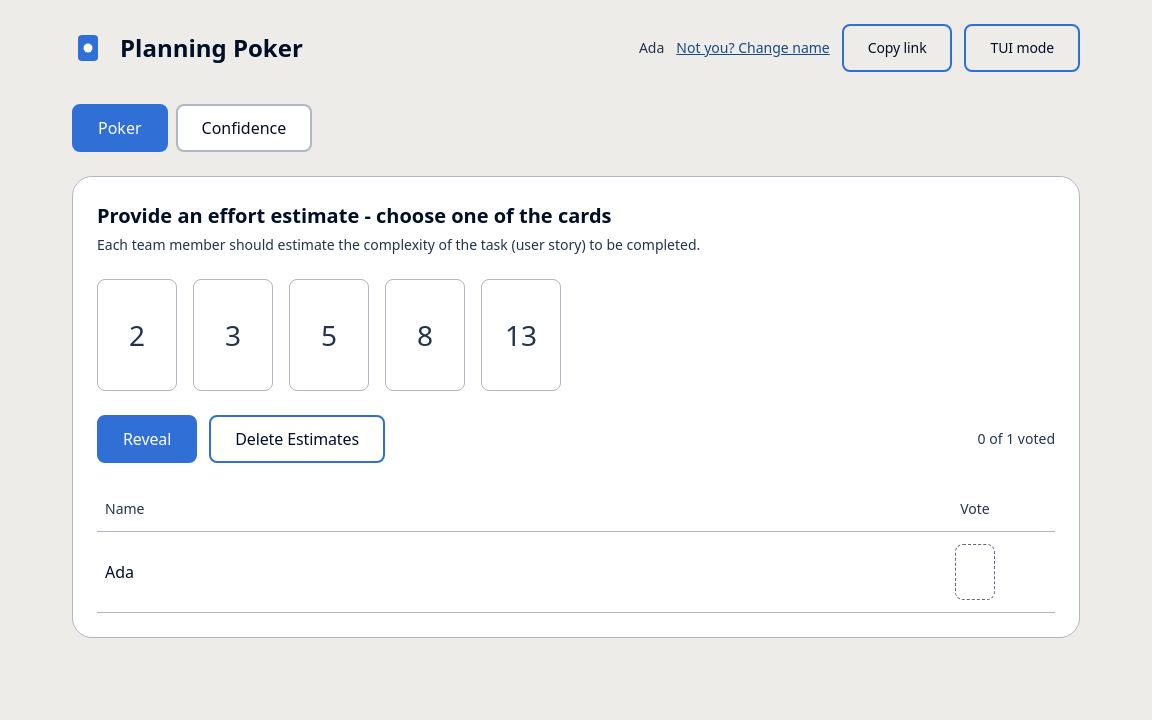
Test: routing › the header title links back to the landing page
What coordinates should you click on to do the following:
click the link "Planning Poker"
I would click on:
 (187, 48)
Its box is top-left (72, 31), bottom-right (303, 64).
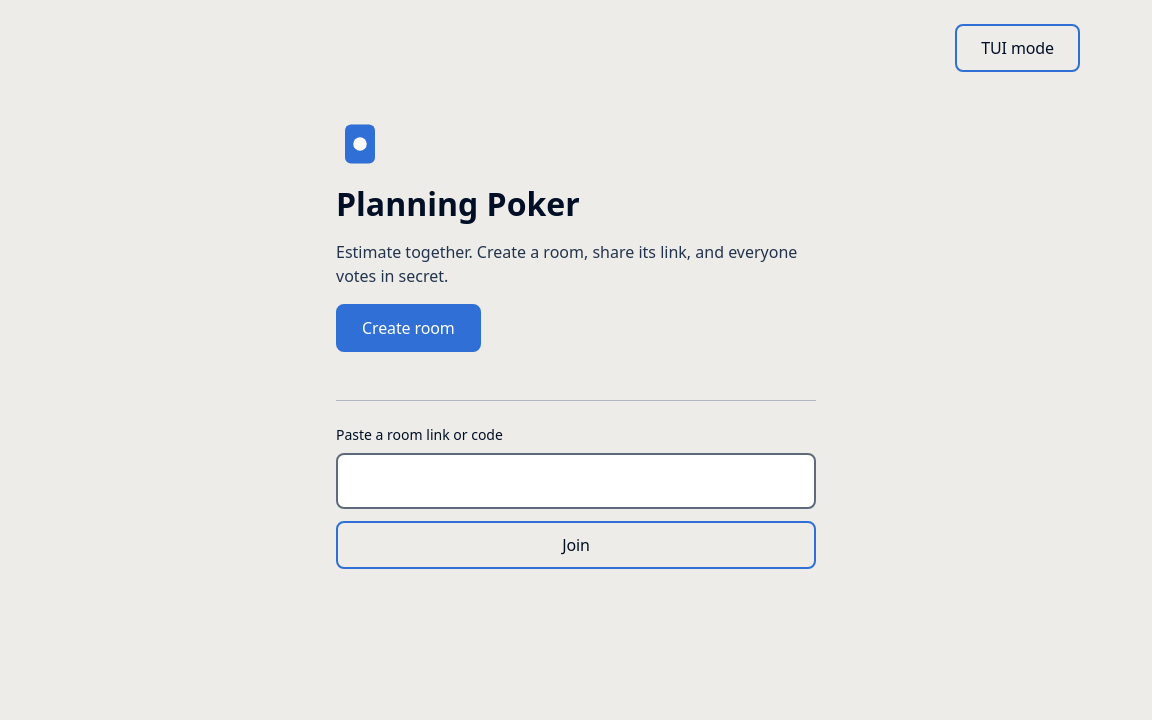
Now the button "Create room" is shown, box top-left (336, 304), bottom-right (481, 352)
